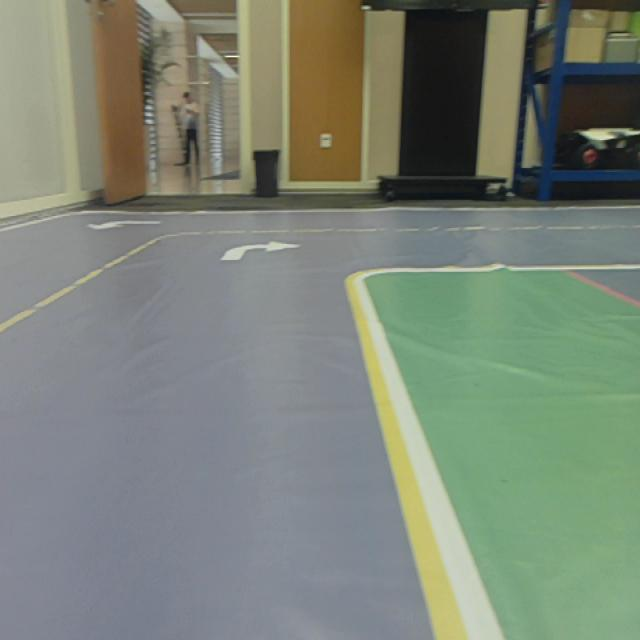left_lane: (0, 238, 158, 334)
right_lane: (344, 280, 469, 640)
